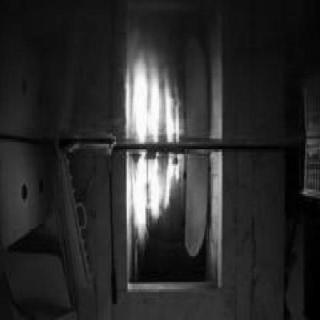Fire: (128, 144, 190, 258)
